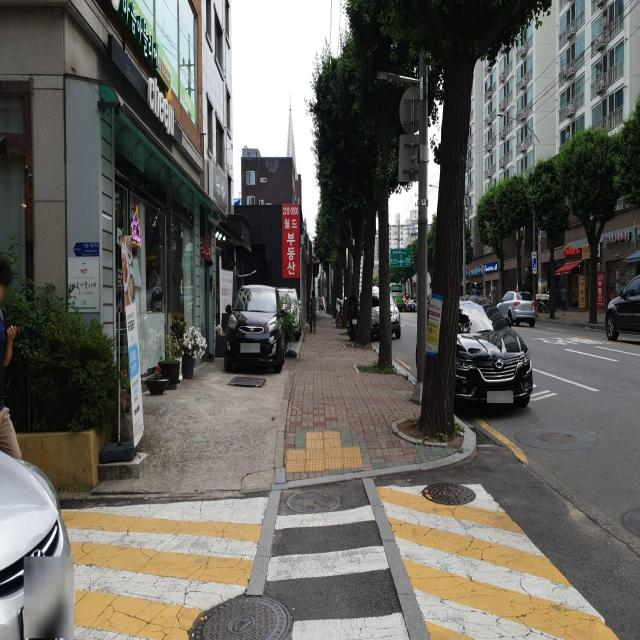횡단보도: (264, 503, 412, 640)
